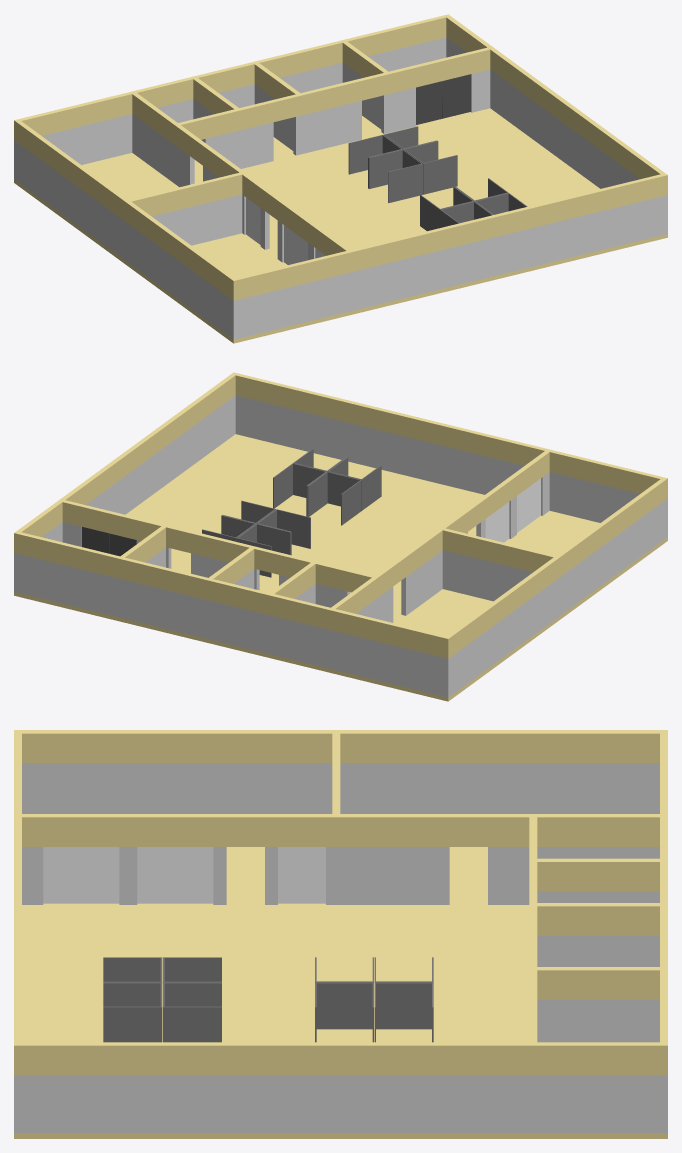
Rendered from Level_3_v01.fbx.
3 renders of one model, top to bottom at view 1: azimuth 30°, elevation 25°; view 2: azimuth 150°, elevation 25°; view 3: azimuth 270°, elevation 25°, orthographic. The views are drawn at different scales.
Parts seen in each view (by area): view 1: L3_MainWalls, L3_UpperWalls, L3_Floor, Cubicle_5, Cubicle_8, ConfWindows, Cubicle_6, ElevatorDoor_1, ElevatorDoor_2, Cubicle_1, Cubicle_4, Cubicle_2 (+1 smaller); view 2: L3_MainWalls, L3_UpperWalls, L3_Floor, Cubicle_4, ConfWindows, Cubicle_3, Cubicle_6, Cubicle_5, Cubicle_1, Cubicle_7, ElevatorDoor_1, Cubicle_8; view 3: L3_MainWalls, L3_UpperWalls, L3_Floor, ConfWindows, Cubicle_2, Cubicle_3, Cubicle_7, Cubicle_8, Cubicle_1, Cubicle_4.
Boxes of the visible parts, x1,y1,x2,y2 form: L3_MainWalls: (14, 37, 667, 339); L3_UpperWalls: (14, 14, 667, 300); L3_Floor: (14, 108, 667, 343); Cubicle_5: (368, 149, 422, 203); Cubicle_8: (403, 141, 457, 194); ConfWindows: (246, 197, 325, 264); Cubicle_6: (348, 135, 402, 188); ElevatorDoor_1: (443, 74, 470, 118); ElevatorDoor_2: (416, 81, 442, 124); Cubicle_1: (440, 201, 492, 227); Cubicle_4: (420, 186, 473, 231); Cubicle_2: (475, 193, 527, 214); L3_MainWalls: (14, 395, 667, 697); L3_UpperWalls: (14, 372, 667, 658); L3_Floor: (14, 434, 667, 701); Cubicle_4: (307, 471, 361, 525); ConfWindows: (485, 478, 540, 542); Cubicle_3: (273, 463, 326, 516); Cubicle_6: (236, 523, 290, 577); Cubicle_5: (257, 509, 310, 555); Cubicle_1: (328, 457, 381, 510); Cubicle_7: (202, 515, 255, 541); ElevatorDoor_1: (81, 527, 109, 553); Cubicle_8: (222, 500, 275, 523); L3_MainWalls: (14, 763, 667, 1132); L3_UpperWalls: (14, 730, 667, 1075); L3_Floor: (14, 847, 667, 1138); ConfWindows: (43, 847, 325, 903); Cubicle_2: (103, 982, 162, 1042); Cubicle_3: (163, 982, 221, 1042); Cubicle_7: (374, 982, 433, 1042); Cubicle_8: (315, 982, 373, 1042); Cubicle_1: (103, 957, 162, 982); Cubicle_4: (163, 957, 221, 982).
Size of the model in its own units: 2340 by 322 by 2050.
